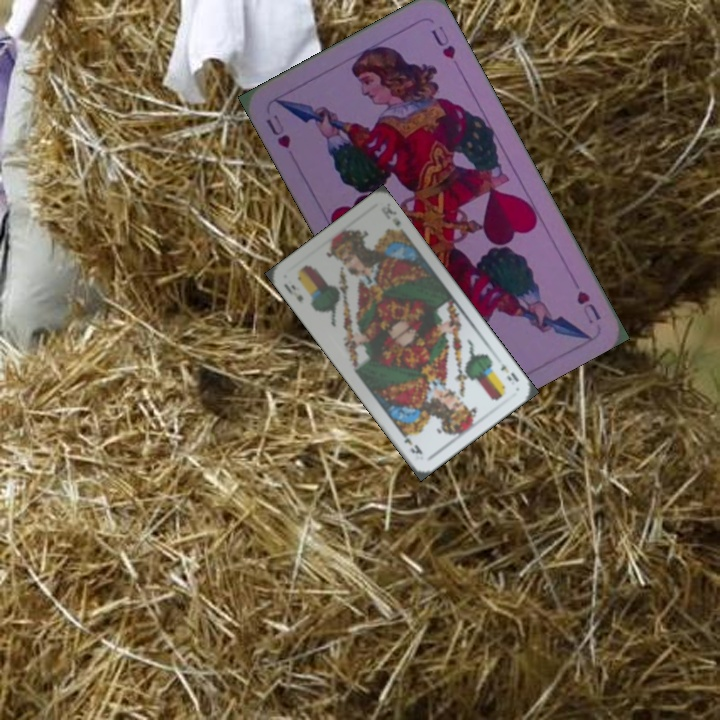EK: (494, 353, 521, 384), (280, 280, 306, 304)
HU: (572, 286, 604, 327), (262, 110, 293, 151)
